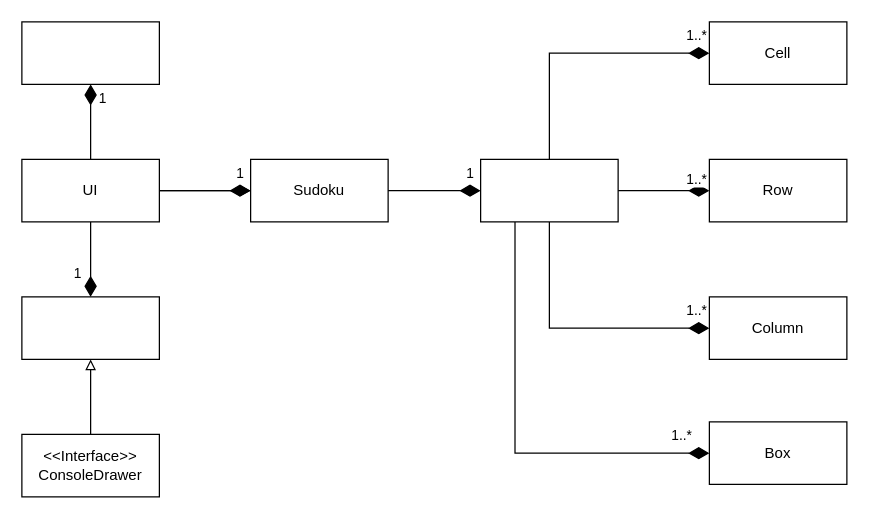
Some shapes in this 869 by 519 pixel diagram are drawn without their labels. Here are the shapes that lost their labels. From the top down, the centre of each, then its label:
the point at 90,52: Reader
the point at 548,190: Board
the point at 90,327: SudokuDrawer
